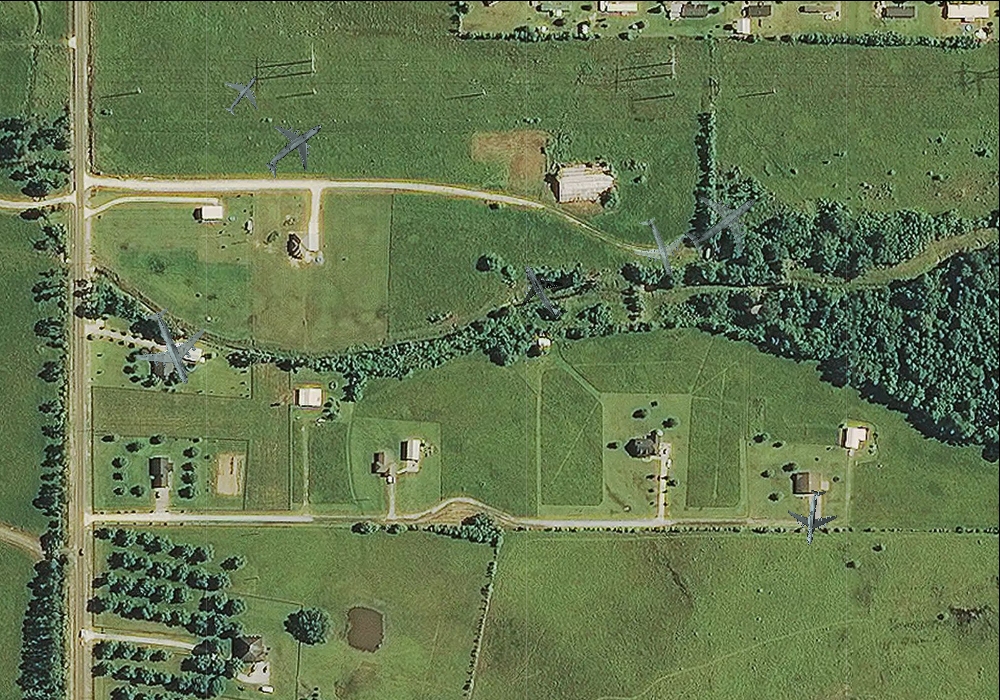plane: (668, 167, 777, 275), (121, 296, 220, 398), (247, 102, 341, 194), (504, 250, 582, 332), (620, 207, 697, 286), (211, 62, 274, 126), (784, 486, 843, 548)
